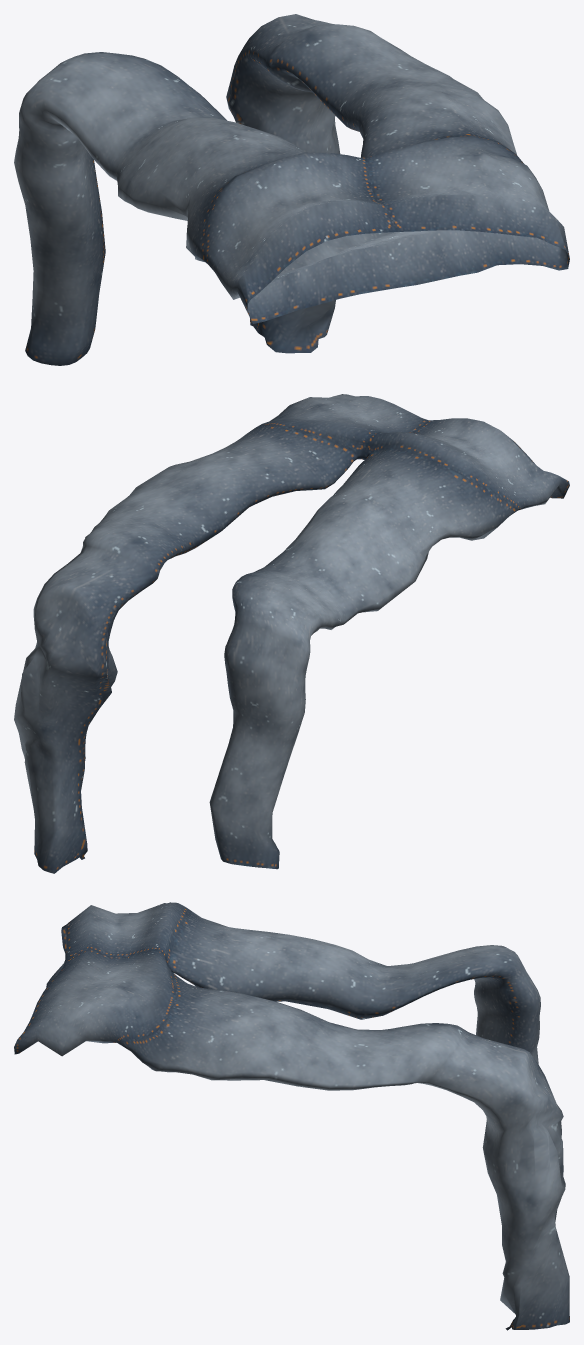
The model's file is Jeans.fbx.
3 renders of one model, top to bottom at view 1: azimuth 30°, elevation 25°; view 2: azimuth 150°, elevation 25°; view 3: azimuth 270°, elevation 25°, orthographic. The views are drawn at different scales.
Parts seen in each view (by area): view 1: JeansOBJ; view 2: JeansOBJ; view 3: JeansOBJ.
Boxes of the visible parts, x1,y1,x2,y2 form: JeansOBJ: (14, 14, 569, 365); JeansOBJ: (14, 394, 569, 873); JeansOBJ: (14, 902, 569, 1330).
Size of the model in its own units: 44.07 by 43.98 by 67.31.
1 material, 1 textured.
